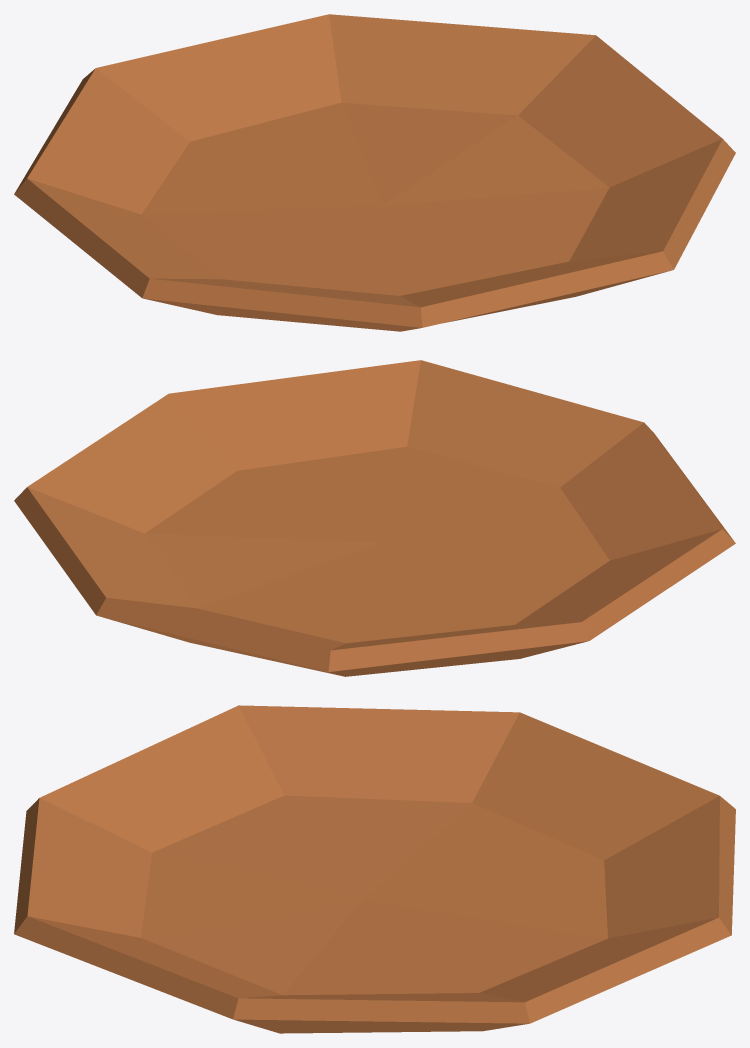
The model's file is SM_Prop_Copper_Plate_Large_03.fbx.
3 renders of one model, top to bottom at view 1: azimuth 30°, elevation 25°; view 2: azimuth 150°, elevation 25°; view 3: azimuth 270°, elevation 25°, orthographic. The views are drawn at different scales.
Parts seen in each view (by area): view 1: SM_Prop_Copper_Plate_Large_03; view 2: SM_Prop_Copper_Plate_Large_03; view 3: SM_Prop_Copper_Plate_Large_03.
Part boxes in pixels (x1,y1,x2,y2): SM_Prop_Copper_Plate_Large_03: (14, 14, 735, 331); SM_Prop_Copper_Plate_Large_03: (14, 360, 735, 676); SM_Prop_Copper_Plate_Large_03: (14, 705, 735, 1033).
Size of the model in its own units: 114 by 13.88 by 112.
